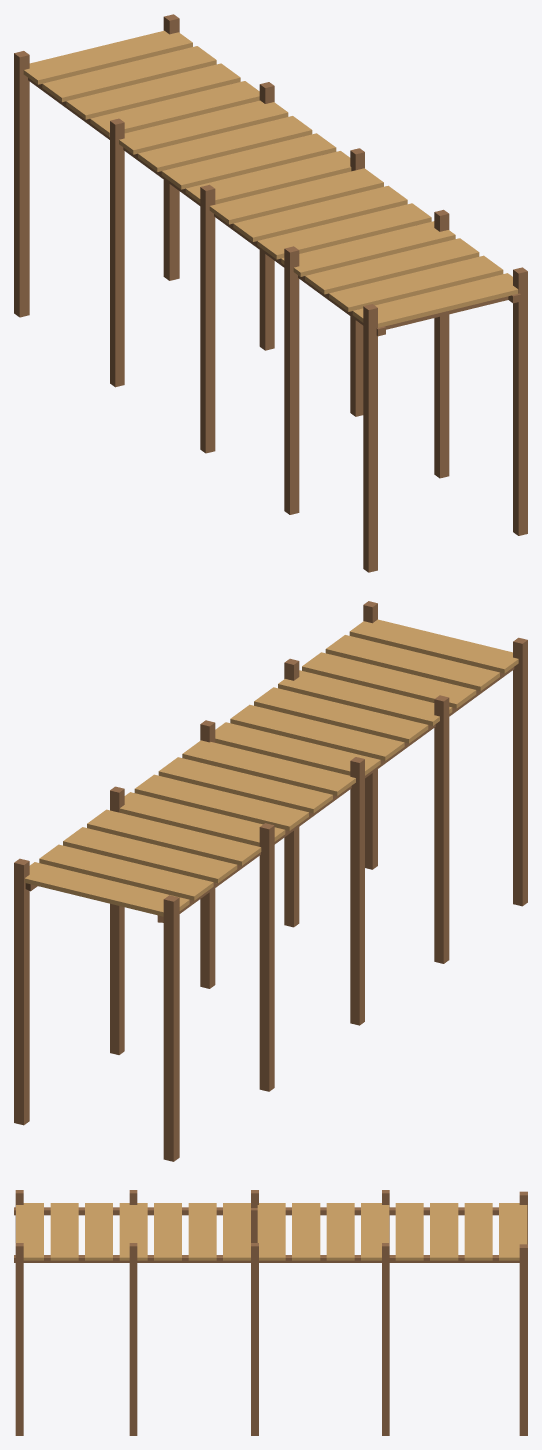
File: M_Pier_Building_0.fbx
3 views of the same model, one above another, from view 1: azimuth 30°, elevation 25°; view 2: azimuth 150°, elevation 25°; view 3: azimuth 270°, elevation 25° (orthographic). The views are drawn at different scales.
Visible parts, largest first — view 1: M_Pier_Building_0; view 2: M_Pier_Building_0; view 3: M_Pier_Building_0.
Boxes of the visible parts, x1,y1,x2,y2 form: M_Pier_Building_0: (14, 14, 527, 572); M_Pier_Building_0: (14, 601, 527, 1161); M_Pier_Building_0: (14, 1190, 527, 1435).
Size of the model in its own units: 329 by 517 by 1271.
